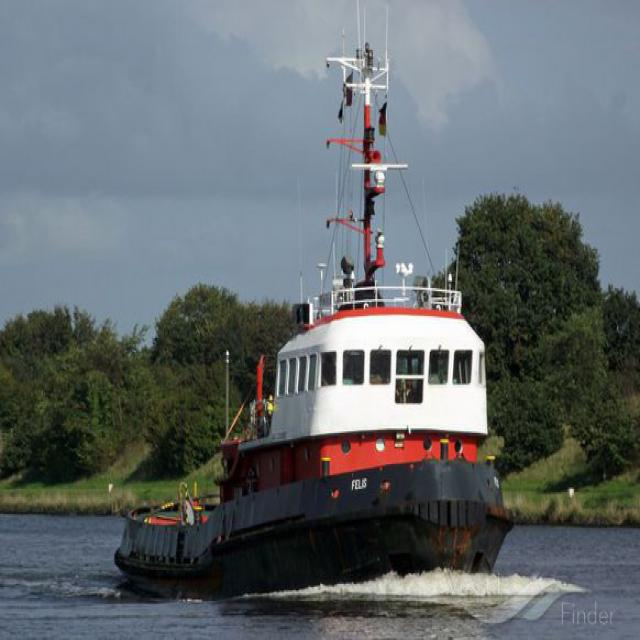tugboat: (116, 38, 512, 601)
